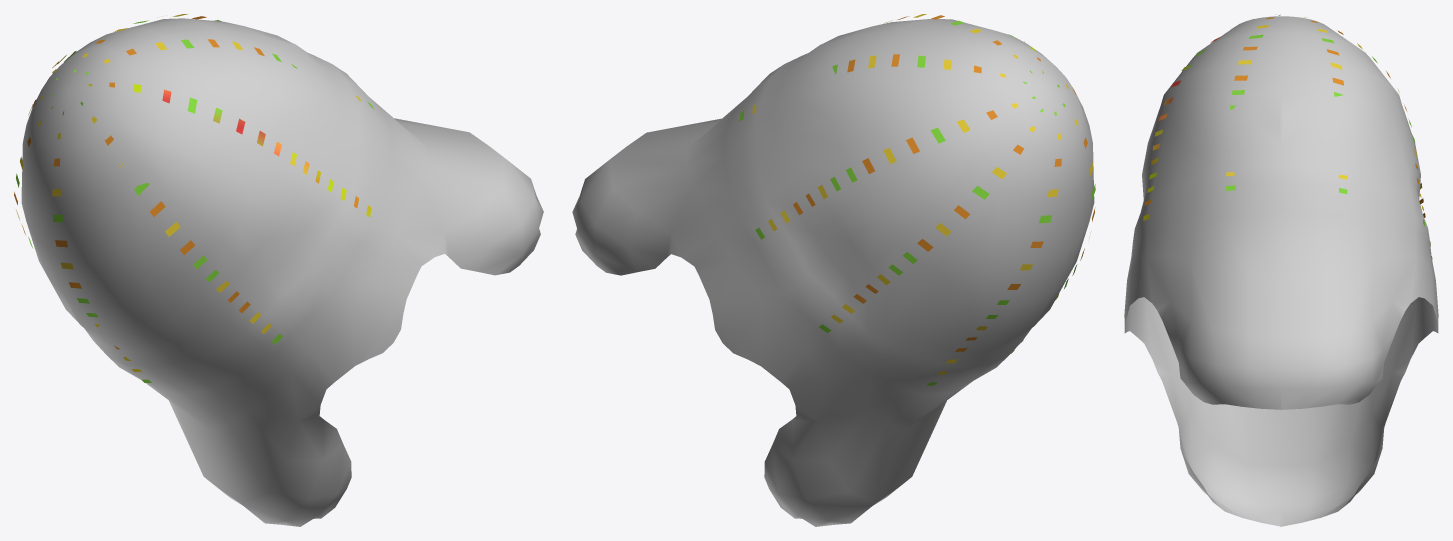
Rendered from bloodJelly_temp02.fbx.
3 views of the same model, side by side, from view 1: azimuth 30°, elevation 25°; view 2: azimuth 150°, elevation 25°; view 3: azimuth 270°, elevation 25° (orthographic). The views are drawn at different scales.
Visible parts, largest first — view 1: Plane.036; view 2: Plane.036; view 3: Plane.036.
Boxes of the visible parts, bbox=[...] form: Plane.036: bbox=[14, 14, 543, 526]; Plane.036: bbox=[572, 14, 1095, 526]; Plane.036: bbox=[1124, 14, 1438, 526].
Size of the model in its own units: 0.3395 by 0.3392 by 0.2178.
